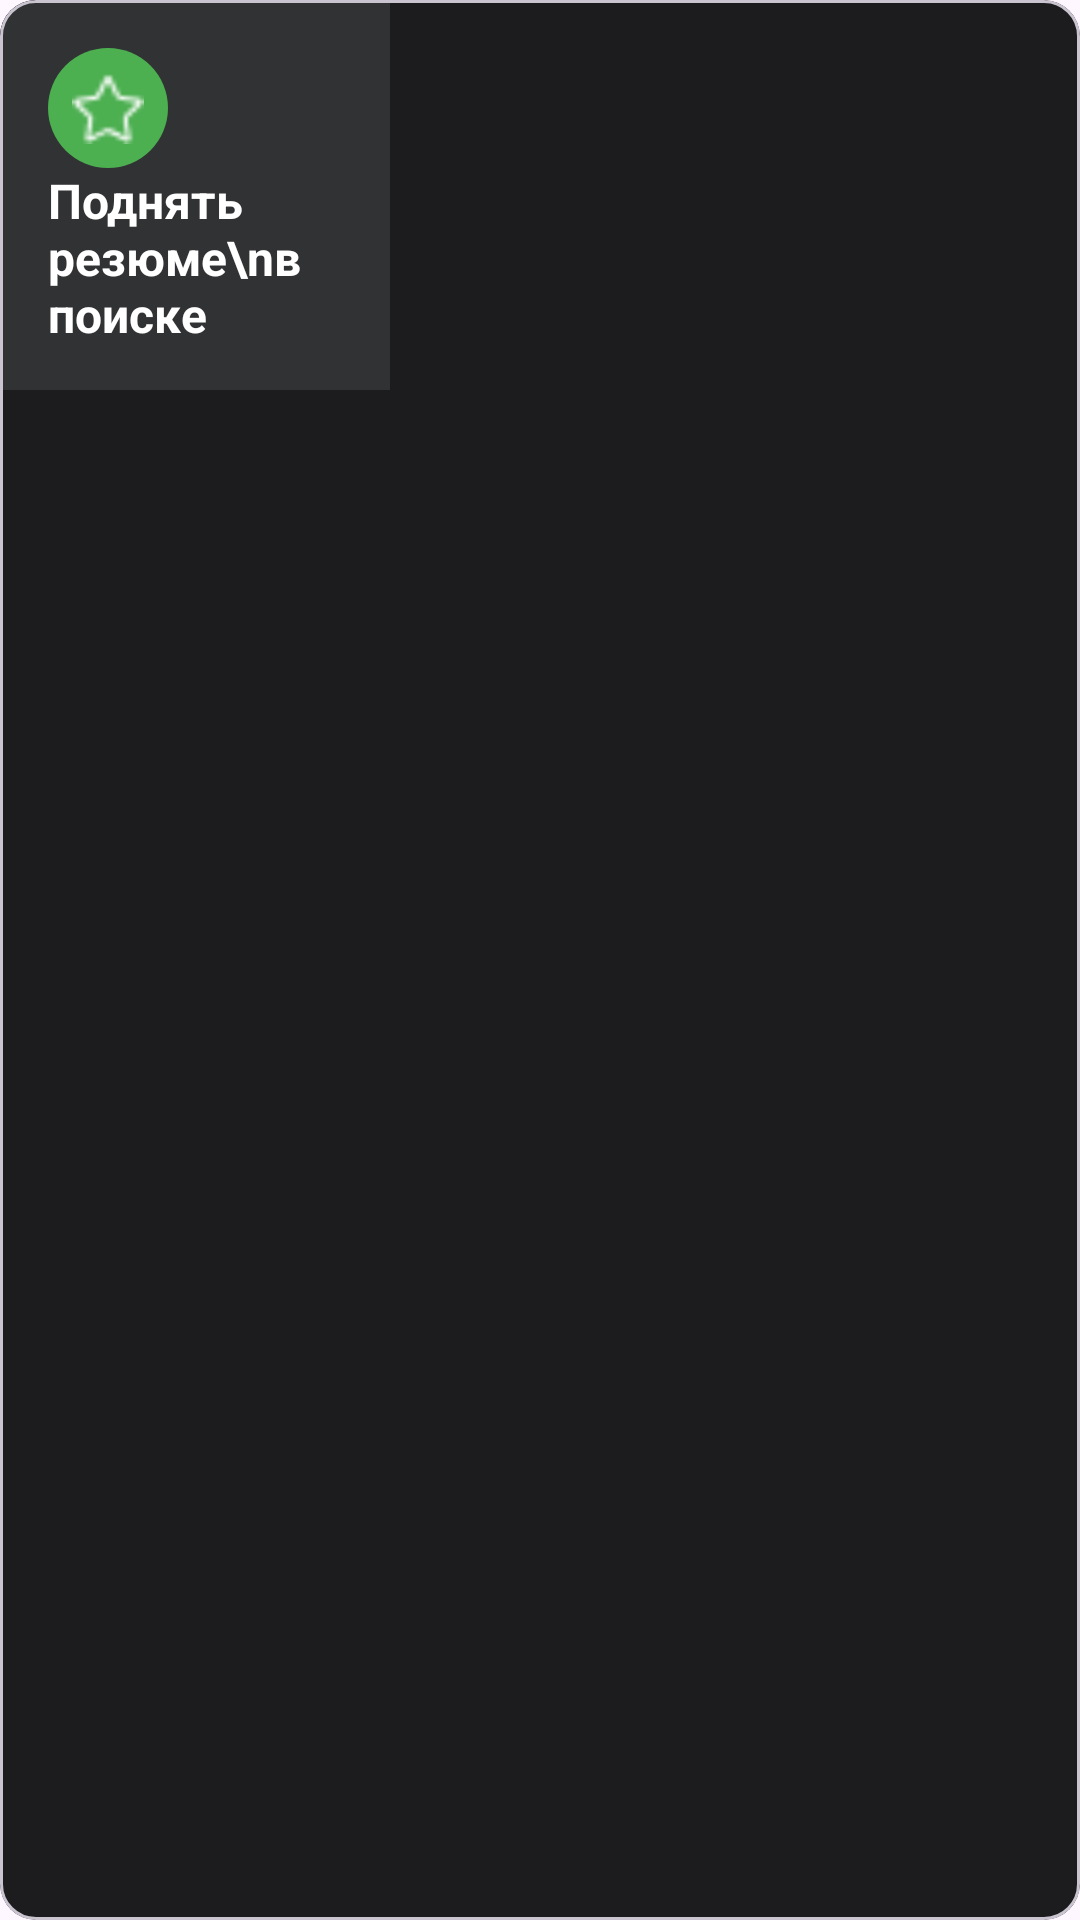

Named icons in this screenshot (1080px×1920px) and their bounding boxes, bbox(x1, y1, x2, y2):
star: bbox(72, 75, 144, 144)
